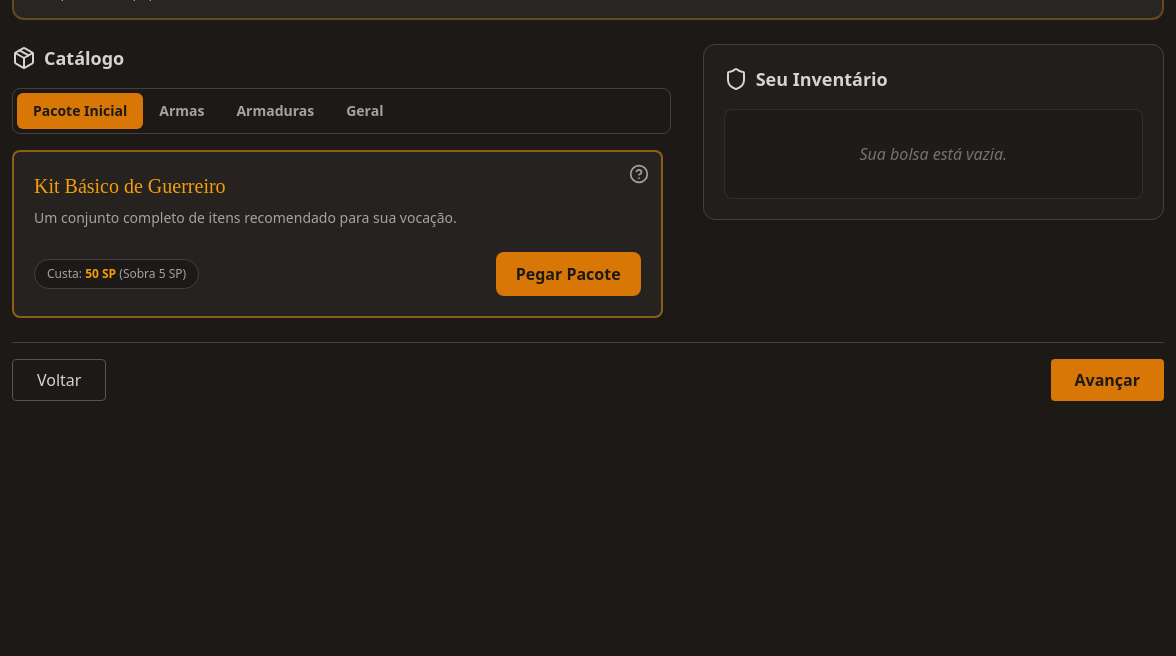
comprar e vender › comprar tira o preço da carteira e põe o item na bolsa
Click the button "Armas".
click(182, 111)  # box [143,93,220,129]
(page scrolled)
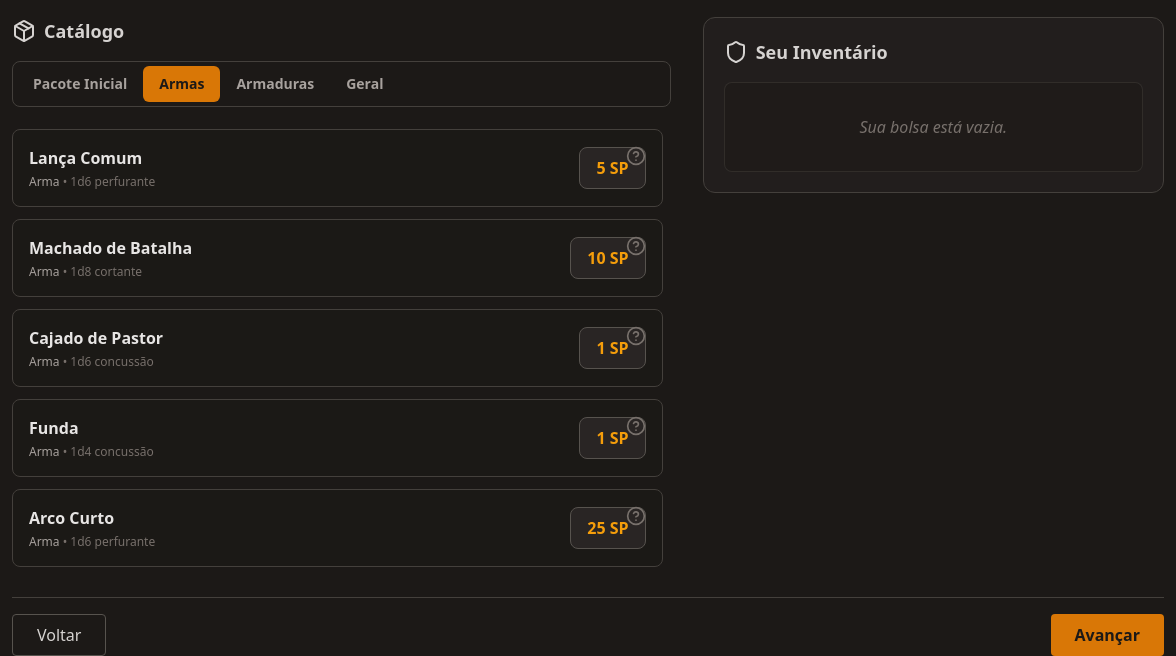
Click the button "1 SP" in the row of "Cajado de Pastor".
click(613, 348)  # box [580,327,646,369]
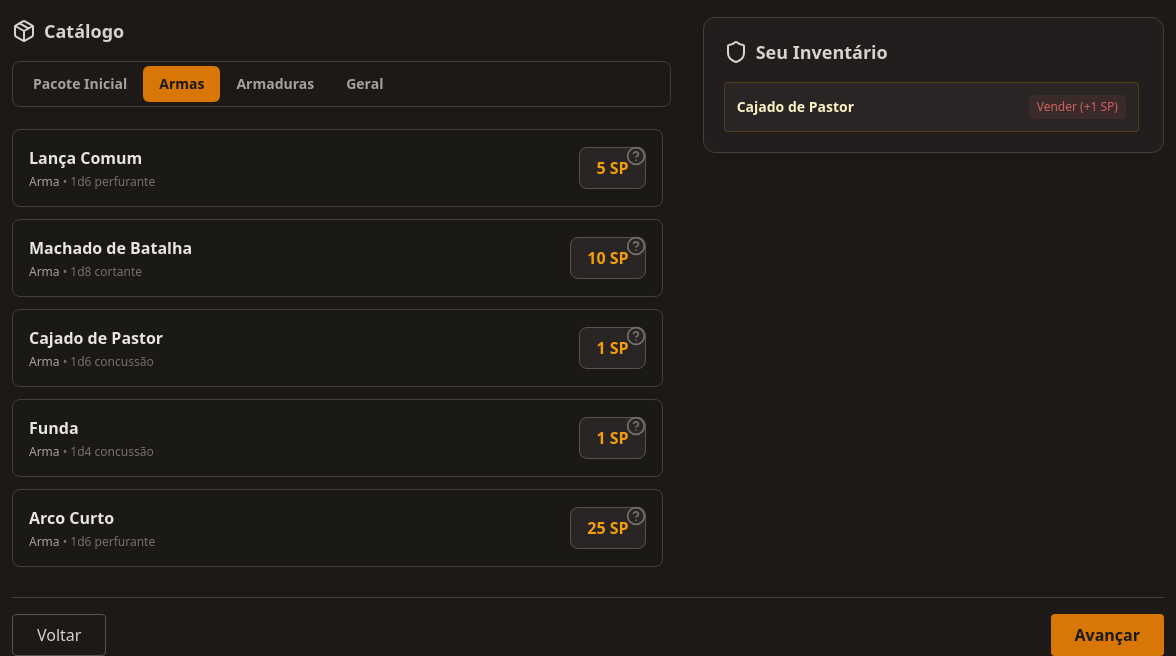
Now the heading "Cajado de Pastor" below "Seu Inventário" is shown, box [737,97,854,116]
